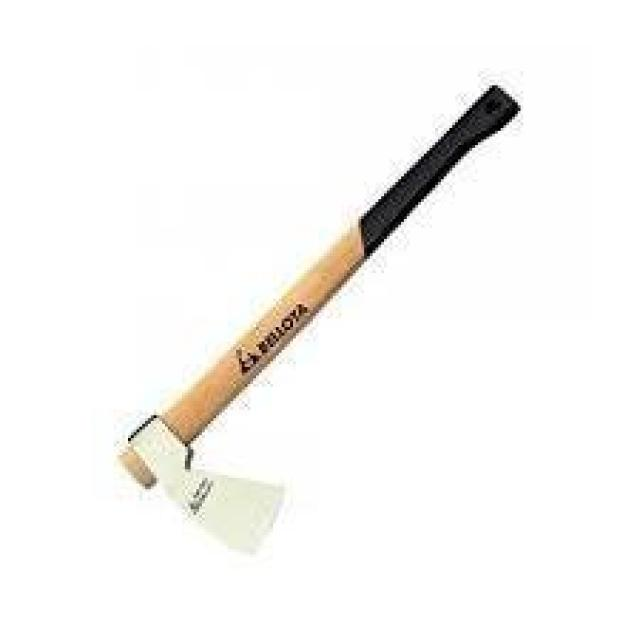Kapak: (118, 81, 476, 545)
